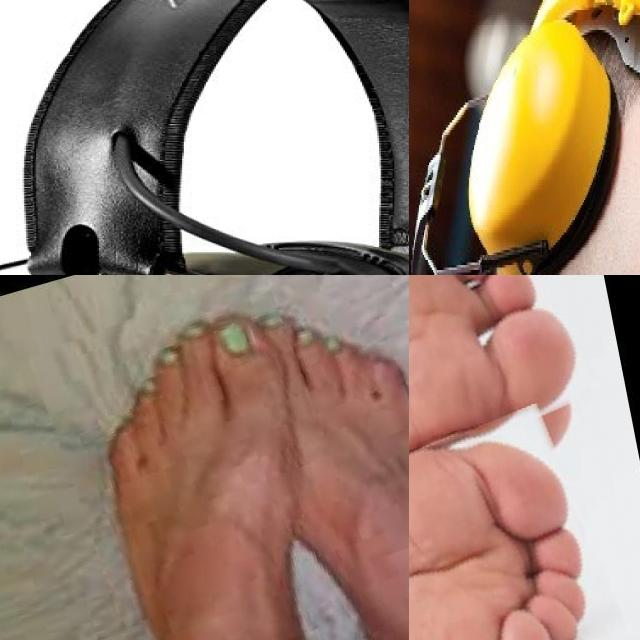Barefoots: (97, 314, 330, 640), (409, 275, 603, 593), (247, 297, 409, 640), (409, 420, 633, 640)
Ear-protection: (460, 7, 620, 275)
head_helmet: (523, 0, 640, 275)
